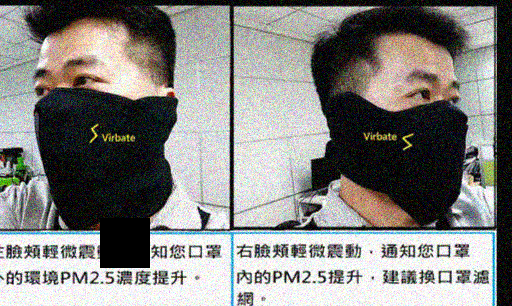with_mask: (32, 48, 168, 209), (363, 65, 464, 209)
